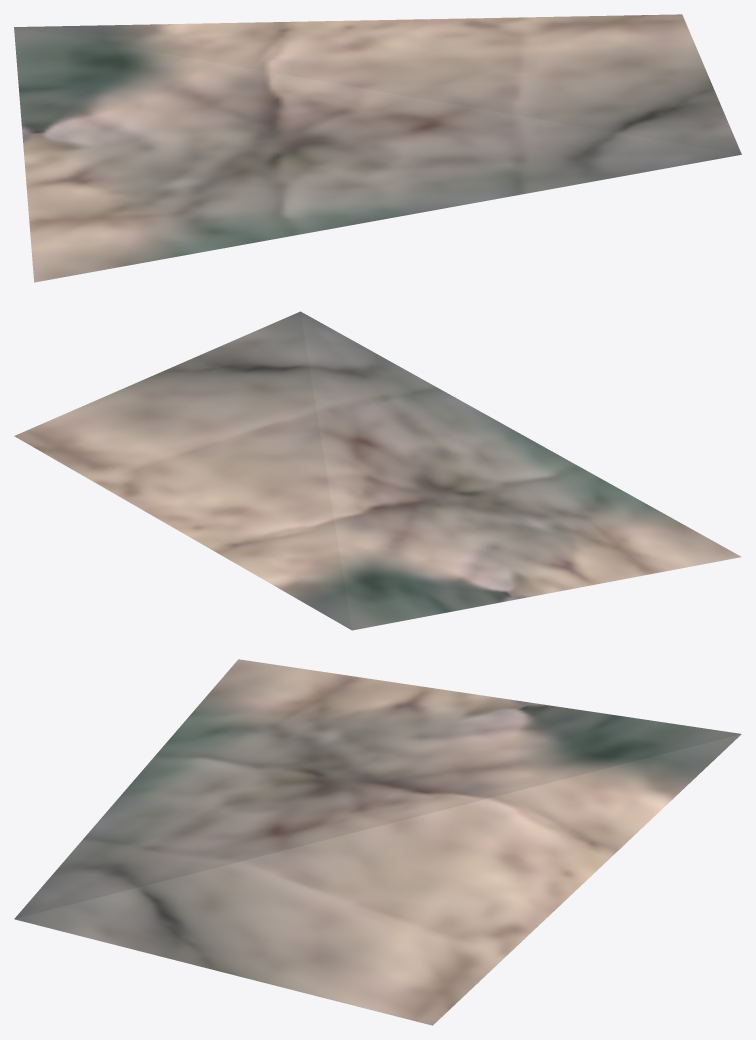
Rendered from Ridge_9_Top.gltf.
3 renders of one model, top to bottom at view 1: azimuth 30°, elevation 25°; view 2: azimuth 150°, elevation 25°; view 3: azimuth 270°, elevation 25°, orthographic. The views are drawn at different scales.
Parts seen in each view (by area): view 1: Ridge_9_Top; view 2: Ridge_9_Top; view 3: Ridge_9_Top.
Part boxes in pixels (bbox=[...]): Ridge_9_Top: bbox=[14, 14, 741, 282]; Ridge_9_Top: bbox=[14, 311, 741, 630]; Ridge_9_Top: bbox=[14, 659, 741, 1025].
Size of the model in its own units: 12.38 by 0.8969 by 9.74.
Materials: 1 (1 with a texture image).
